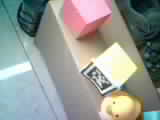duck: (94, 80, 137, 117)
